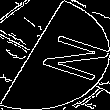N_NW: (12, 26, 98, 84)
